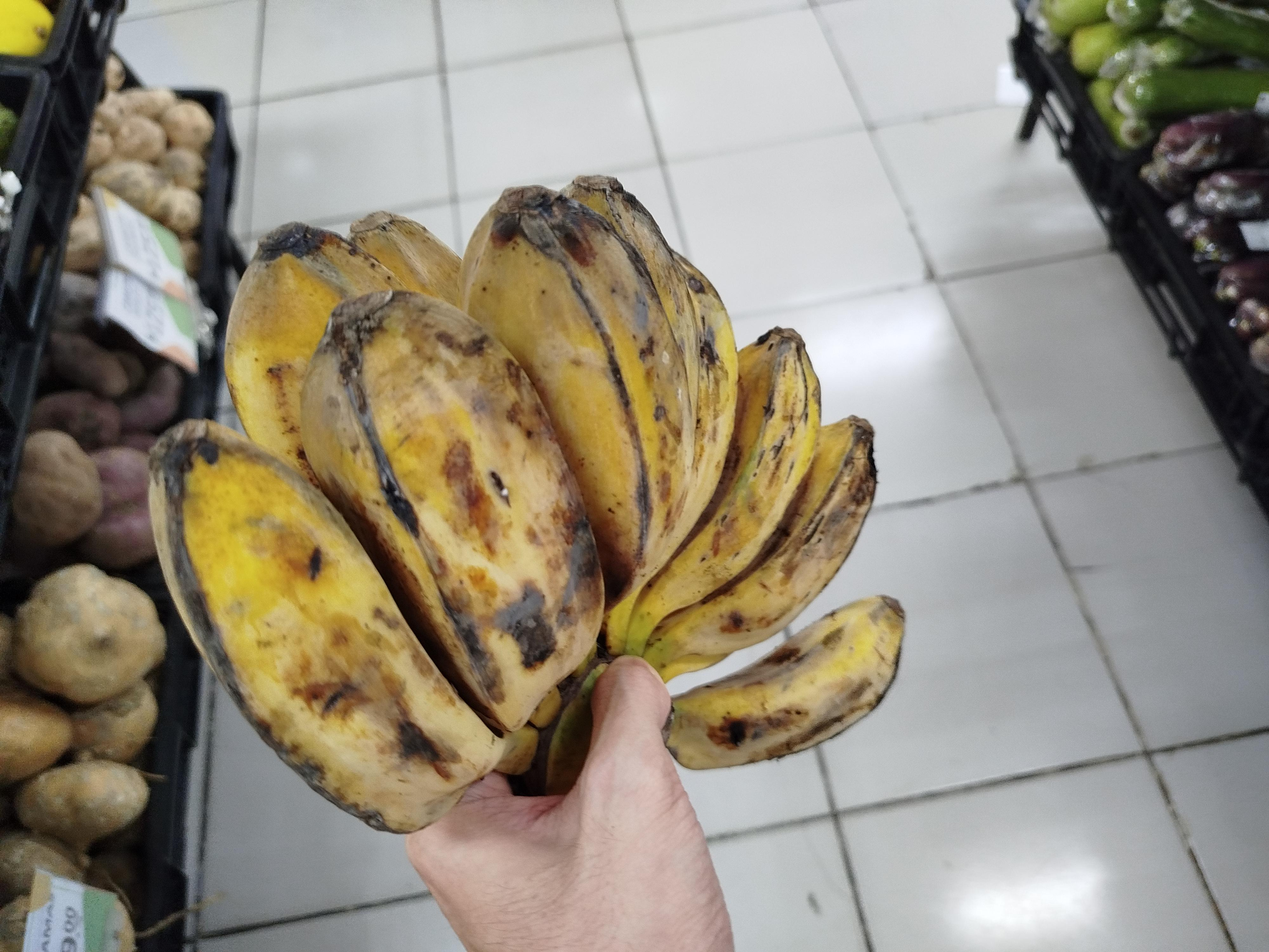ripe: (150, 176, 876, 833)
